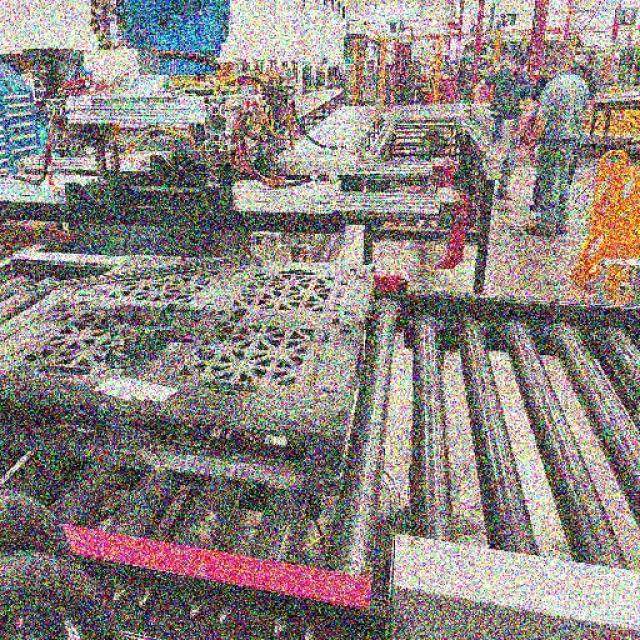igps: (0, 238, 391, 514)
